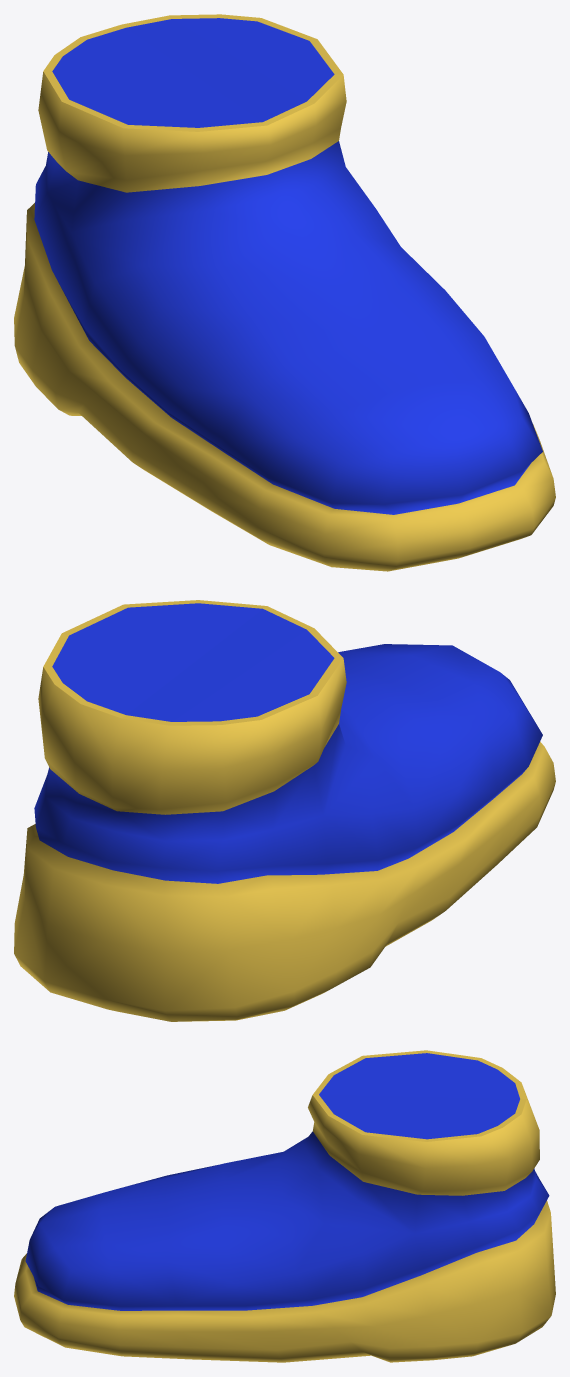
File: Shoe-01.fbx
3 views of the same model, one above another, from view 1: azimuth 30°, elevation 25°; view 2: azimuth 150°, elevation 25°; view 3: azimuth 270°, elevation 25° (orthographic). The views are drawn at different scales.
Visible parts, largest first — view 1: Shoe-01; view 2: Shoe-01; view 3: Shoe-01.
Boxes of the visible parts, x1,y1,x2,y2 form: Shoe-01: (14, 14, 555, 571); Shoe-01: (14, 600, 555, 1021); Shoe-01: (14, 1050, 555, 1362).
Bounding box in the file's own units: 1.05 × 0.9395 × 2.11.
